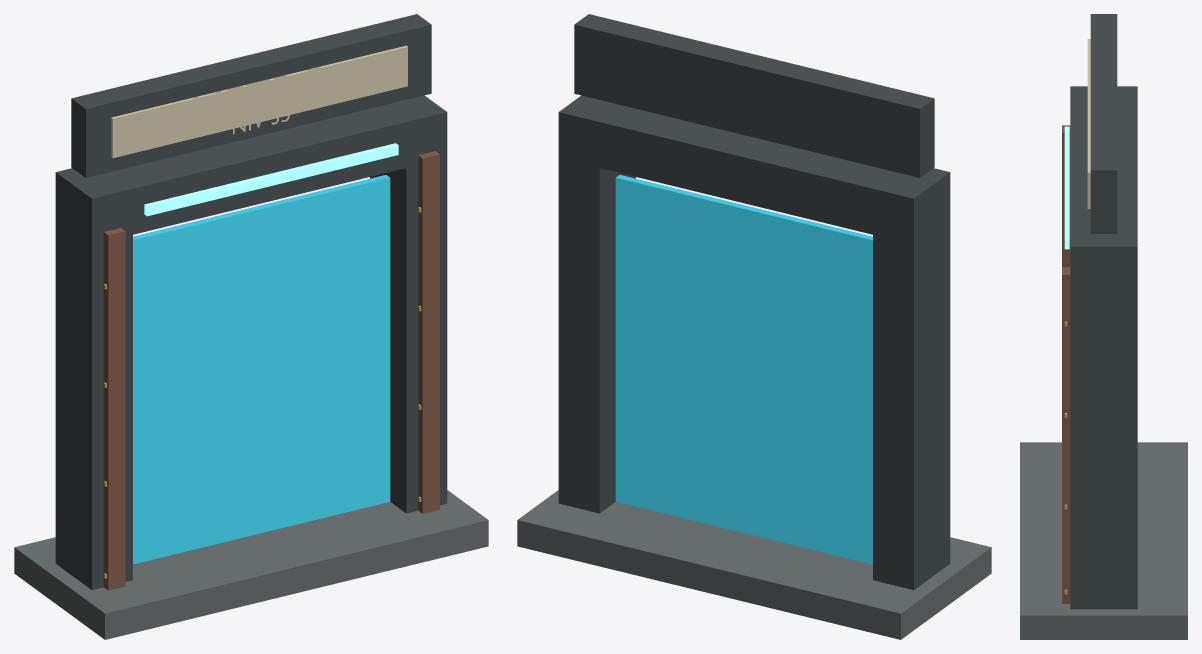
File: Refuge_Portal_05_Metro_Niv35.fbx
3 views of the same model, side by side, from view 1: azimuth 30°, elevation 25°; view 2: azimuth 150°, elevation 25°; view 3: azimuth 270°, elevation 25° (orthographic). The views are drawn at different scales.
Visible parts, largest first — view 1: Refuge_Portal_05_Metro_Niv35_portal, Refuge_Portal_05_Metro_Niv35_iron, Refuge_Portal_05_Metro_Niv35_concrete_dark, Refuge_Portal_05_Metro_Niv35_rust, Refuge_Portal_05_Metro_Niv35_paint, Refuge_Portal_05_Metro_Niv35_cyan, Refuge_Portal_05_Metro_Niv35_label; view 2: Refuge_Portal_05_Metro_Niv35_iron, Refuge_Portal_05_Metro_Niv35_portal, Refuge_Portal_05_Metro_Niv35_concrete_dark; view 3: Refuge_Portal_05_Metro_Niv35_iron, Refuge_Portal_05_Metro_Niv35_concrete_dark, Refuge_Portal_05_Metro_Niv35_rust, Refuge_Portal_05_Metro_Niv35_cyan, Refuge_Portal_05_Metro_Niv35_paint.
Part boxes in pixels (x1=…): Refuge_Portal_05_Metro_Niv35_portal: x1=133, y1=175, x2=390, y2=564; Refuge_Portal_05_Metro_Niv35_iron: x1=55, y1=14, x2=447, y2=590; Refuge_Portal_05_Metro_Niv35_concrete_dark: x1=14, y1=490, x2=488, y2=639; Refuge_Portal_05_Metro_Niv35_rust: x1=103, y1=151, x2=439, y2=590; Refuge_Portal_05_Metro_Niv35_paint: x1=111, y1=45, x2=407, y2=158; Refuge_Portal_05_Metro_Niv35_cyan: x1=144, y1=143, x2=398, y2=216; Refuge_Portal_05_Metro_Niv35_label: x1=193, y1=67, x2=329, y2=127; Refuge_Portal_05_Metro_Niv35_iron: x1=558, y1=14, x2=950, y2=590; Refuge_Portal_05_Metro_Niv35_portal: x1=615, y1=175, x2=872, y2=564; Refuge_Portal_05_Metro_Niv35_concrete_dark: x1=517, y1=490, x2=991, y2=639; Refuge_Portal_05_Metro_Niv35_iron: x1=1070, y1=14, x2=1137, y2=609; Refuge_Portal_05_Metro_Niv35_concrete_dark: x1=1020, y1=442, x2=1187, y2=639; Refuge_Portal_05_Metro_Niv35_rust: x1=1062, y1=125, x2=1070, y2=603; Refuge_Portal_05_Metro_Niv35_cyan: x1=1064, y1=126, x2=1069, y2=249; Refuge_Portal_05_Metro_Niv35_paint: x1=1087, y1=39, x2=1090, y2=208.
Bounding box in the file's own units: 12.2 × 15.15 × 5.
